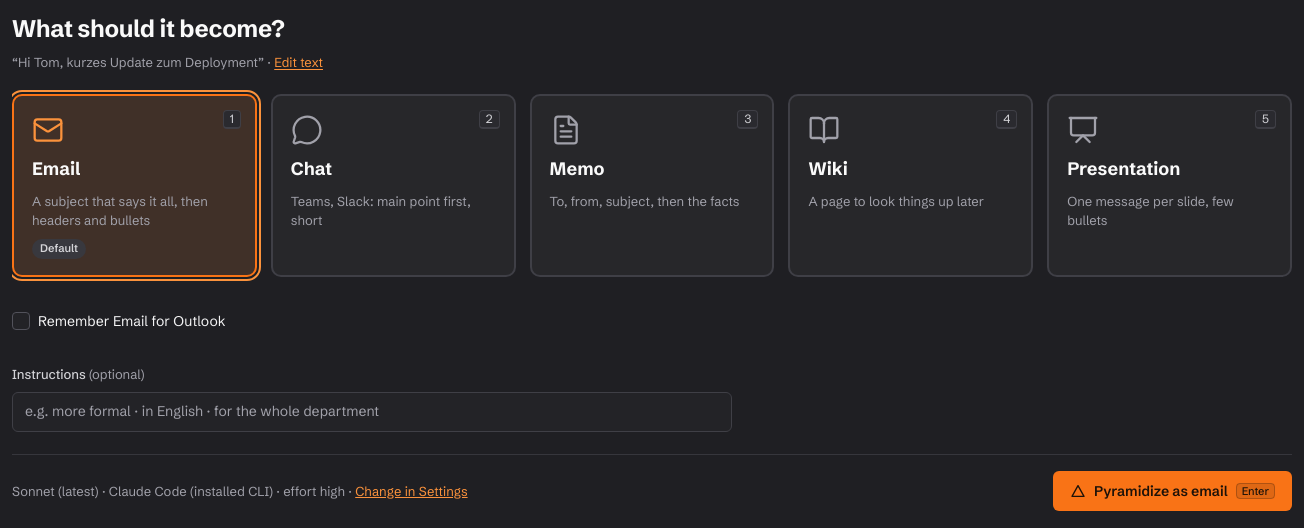
Test case: ChoiceStepComponent (the Form step) › text from an app › names the picked form on the box, and unticks it when the form changes
Click the checkbox labelled "Remember Email for Outlook" at (21, 321), box [12,312,30,330]
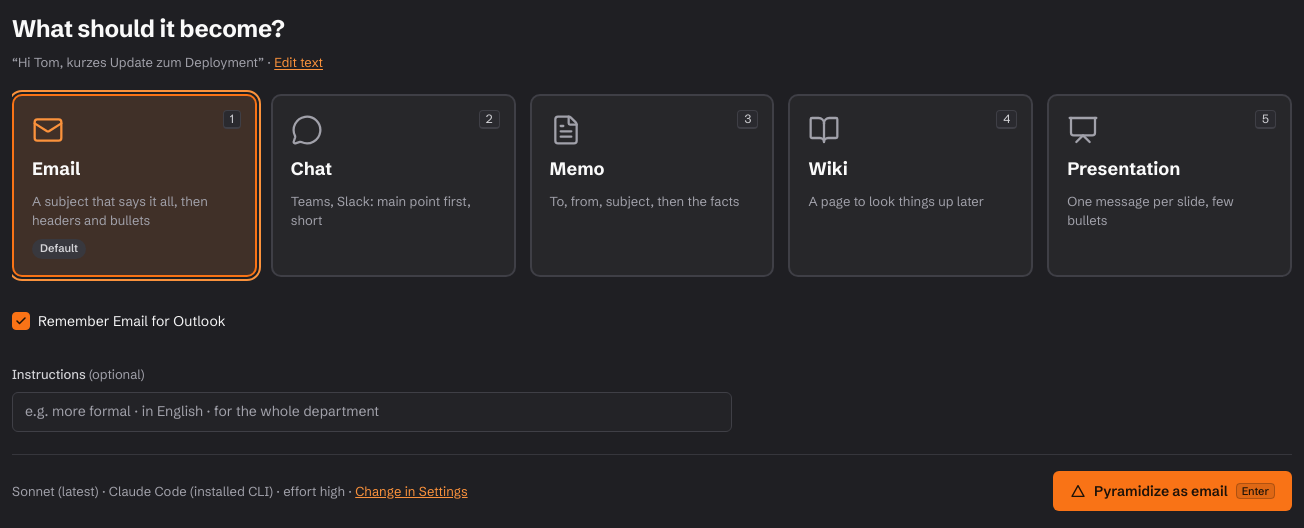
Press 3
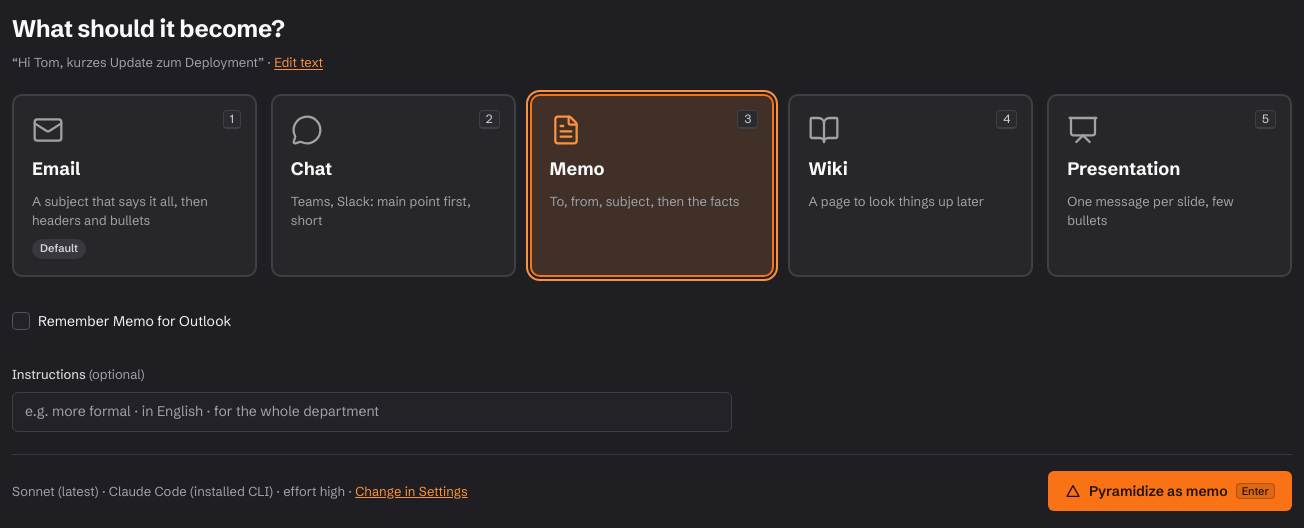
Now the label "Remember Memo for Outlook" is shown, box [38,311,231,332]
